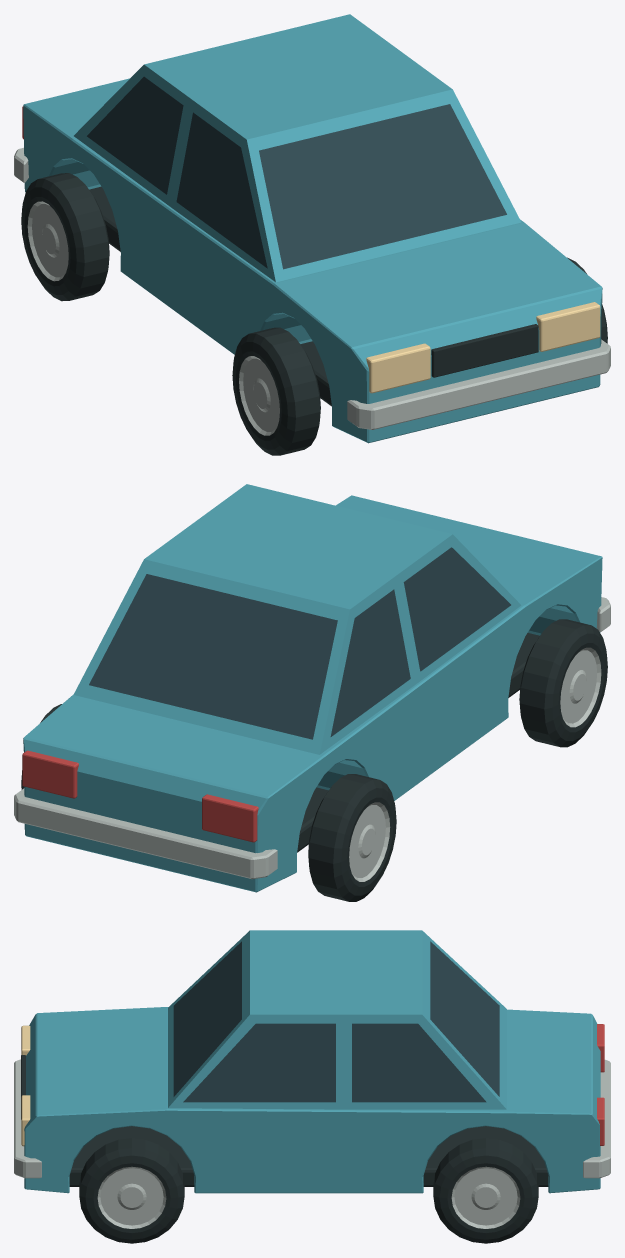
The model's file is asset.glb.
The picture shows the model from 3 angles, top to bottom: view 1: azimuth 30°, elevation 25°; view 2: azimuth 150°, elevation 25°; view 3: azimuth 270°, elevation 25°; orthographic projection. The views are drawn at different scales.
Parts seen in each view (by area): view 1: Body_ArchCutShell, Cabin_Pillars_Roof, Glass_Windshield, wheel_rl, wheel_fl, Bumper_Front, Glass_FrontDoor_L, Glass_RearDoor_L, Grille_Main, Headlight_R, Headlight_L, Underbody_Recessed; view 2: Body_ArchCutShell, Cabin_Pillars_Roof, Glass_RearWindow, wheel_rl, wheel_fl, Bumper_Rear, Glass_FrontDoor_L, Glass_RearDoor_L, Taillight_R, Taillight_L, Underbody_Recessed; view 3: Body_ArchCutShell, Cabin_Pillars_Roof, Glass_FrontDoor_R, wheel_fr, wheel_rr, Glass_RearDoor_R, Glass_RearWindow, Glass_Windshield, Underbody_Recessed, Bumper_Rear, Bumper_Front.
Part boxes in pixels (<box>): Body_ArchCutShell: <box>23,78,602,443</box>; Cabin_Pillars_Roof: <box>74,14,521,282</box>; Glass_Windshield: <box>259,104,506,269</box>; wheel_rl: <box>21,173,109,301</box>; wheel_fl: <box>232,327,320,455</box>; Bumper_Front: <box>347,339,610,429</box>; Glass_FrontDoor_L: <box>176,112,267,268</box>; Glass_RearDoor_L: <box>87,76,183,194</box>; Grille_Main: <box>431,324,538,377</box>; Headlight_R: <box>536,302,600,351</box>; Headlight_L: <box>366,343,430,393</box>; Underbody_Recessed: <box>89,186,331,406</box>; Body_ArchCutShell: <box>23,495,602,892</box>; Cabin_Pillars_Roof: <box>73,484,521,754</box>; Glass_RearWindow: <box>89,574,337,739</box>; wheel_rl: <box>308,774,396,901</box>; wheel_fl: <box>519,619,607,747</box>; Bumper_Rear: <box>14,788,277,879</box>; Glass_FrontDoor_L: <box>403,547,510,671</box>; Glass_RearDoor_L: <box>330,589,410,736</box>; Taillight_R: <box>22,750,78,798</box>; Taillight_L: <box>202,794,258,842</box>; Underbody_Recessed: <box>297,633,539,852</box>; Body_ArchCutShell: <box>24,1007,600,1193</box>; Cabin_Pillars_Roof: <box>168,930,506,1109</box>; Glass_FrontDoor_R: <box>183,1023,335,1102</box>; wheel_fr: <box>79,1138,184,1243</box>; wheel_rr: <box>433,1138,538,1243</box>; Glass_RearDoor_R: <box>352,1023,486,1102</box>; Glass_RearWindow: <box>430,941,499,1096</box>; Glass_Windshield: <box>173,941,241,1096</box>; Underbody_Recessed: <box>69,1126,548,1186</box>; Bumper_Rear: <box>583,1059,610,1178</box>; Bumper_Front: <box>14,1059,41,1178</box>.
Size of the model in its own units: 2.25 by 1.65 by 4.3.
